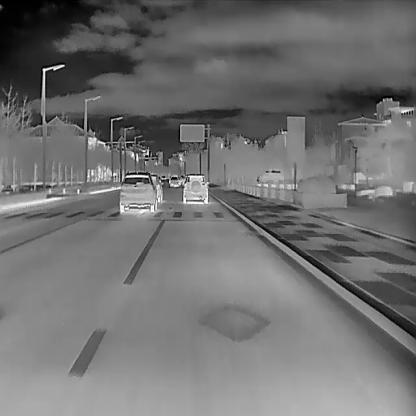car: (119, 170, 157, 211), (181, 173, 208, 203), (150, 172, 162, 202), (169, 174, 178, 186)
